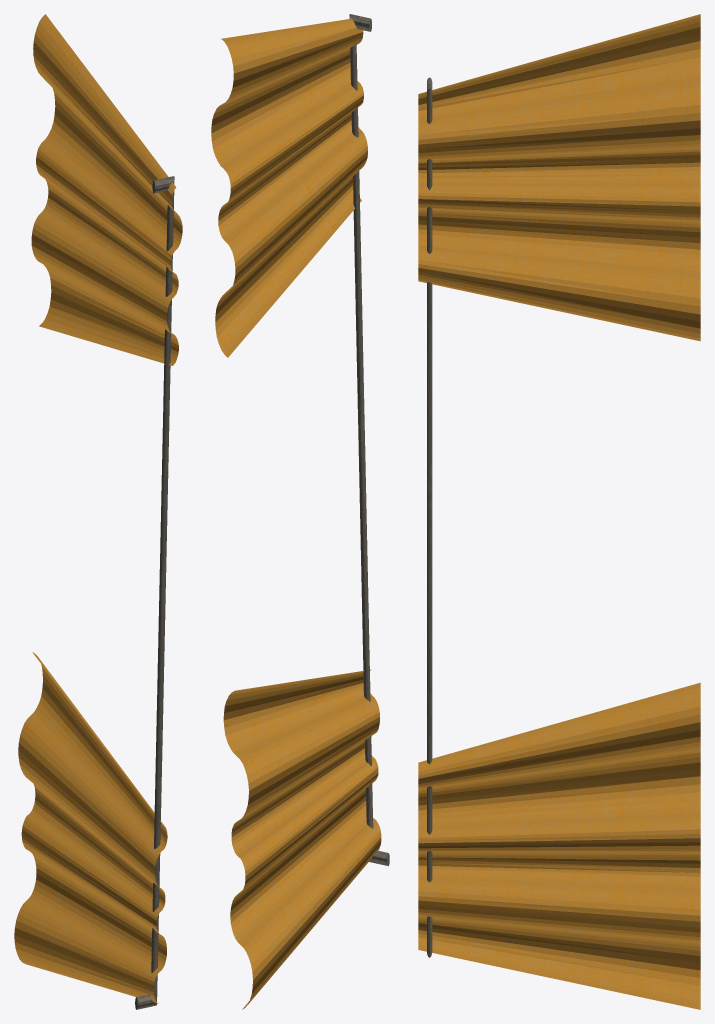
The model's file is curtain_4_object.obj.
The picture shows the model from 3 angles, left to right: view 1: azimuth 30°, elevation 25°; view 2: azimuth 150°, elevation 25°; view 3: azimuth 270°, elevation 25°; orthographic projection. The views are drawn at different scales.
Size of the model in its own units: 0.2585 by 5.05 by 1.29.
1 material, 1 textured.
